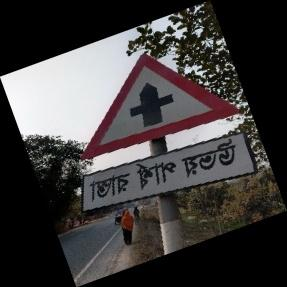Crossroad: (78, 53, 256, 209)
